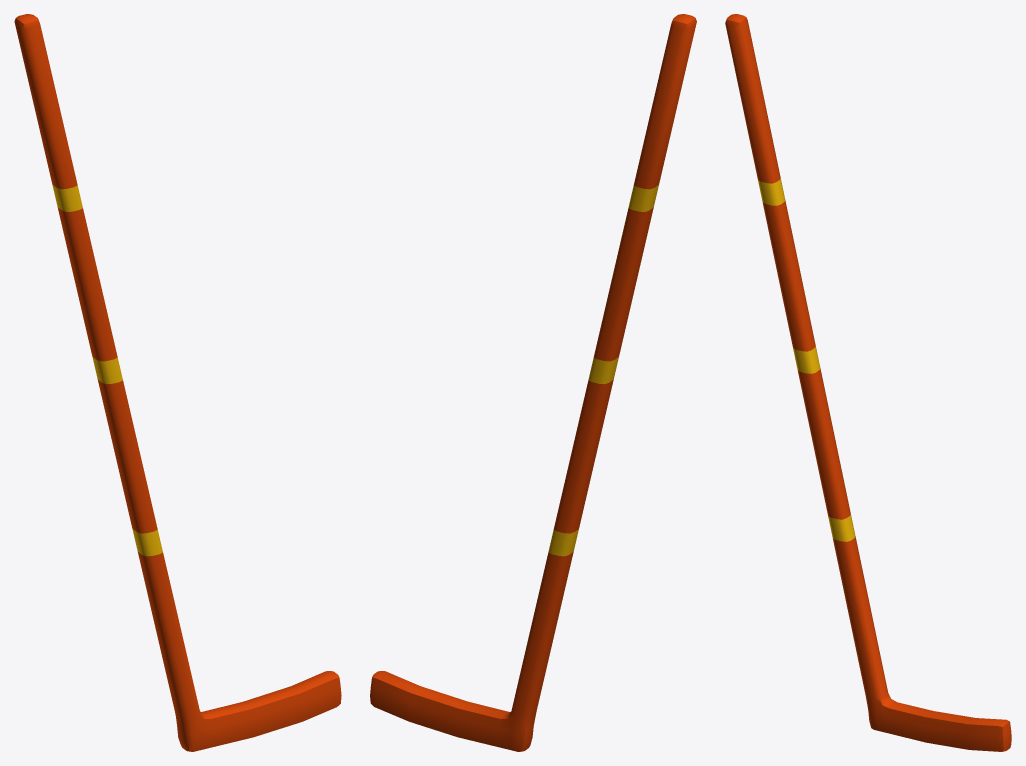
The model's file is Ice Hokey Stick_1.fbx.
3 renders of one model, left to right at view 1: azimuth 30°, elevation 25°; view 2: azimuth 150°, elevation 25°; view 3: azimuth 330°, elevation 25°, orthographic. The views are drawn at different scales.
Parts seen in each view (by area): view 1: Ice Hokey Stick_1; view 2: Ice Hokey Stick_1; view 3: Ice Hokey Stick_1.
Part boxes in pixels (bbox=[...]): Ice Hokey Stick_1: bbox=[14, 14, 341, 751]; Ice Hokey Stick_1: bbox=[370, 14, 696, 751]; Ice Hokey Stick_1: bbox=[725, 14, 1011, 751].
Bounding box in the file's own units: 0.3105 × 0.7133 × 0.0196.
